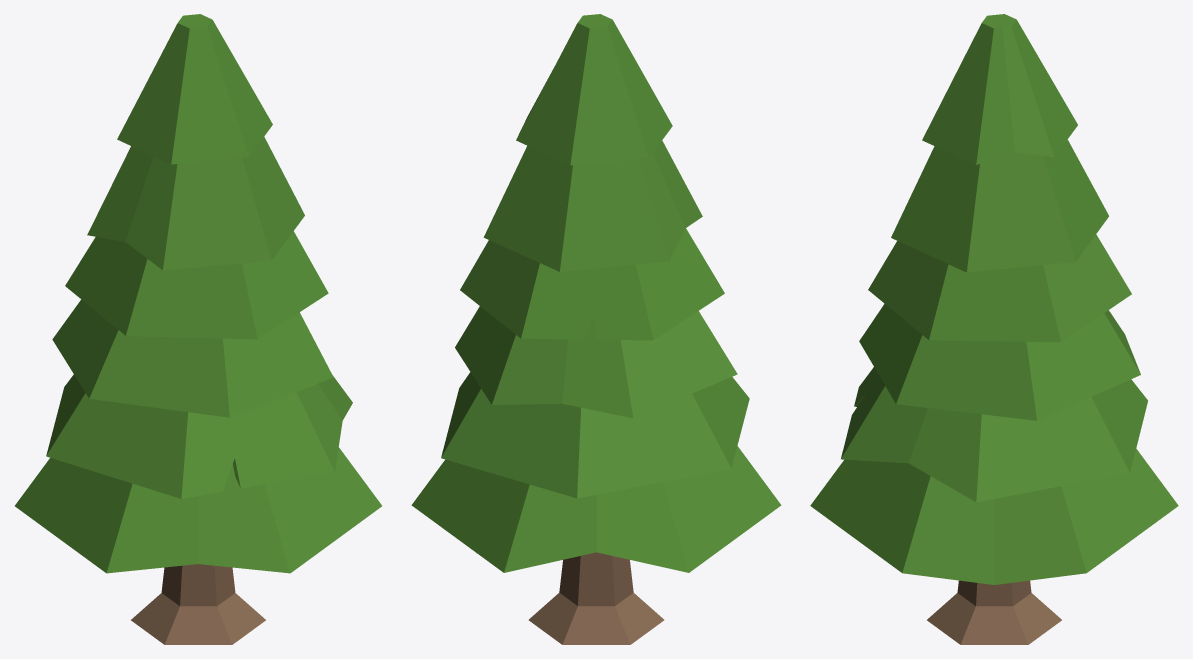
Rendered from tree 1.fbx.
3 renders of one model, left to right at view 1: azimuth 30°, elevation 25°; view 2: azimuth 150°, elevation 25°; view 3: azimuth 270°, elevation 25°, orthographic.
Parts seen in each view (by area): view 1: Tree 1; view 2: Tree 1; view 3: Tree 1.
Part boxes in pixels (bbox=[...]): Tree 1: bbox=[15, 14, 381, 644]; Tree 1: bbox=[411, 14, 781, 644]; Tree 1: bbox=[810, 14, 1178, 644].
Size of the model in its own units: 215 by 425 by 237.
1 material, 1 textured.
